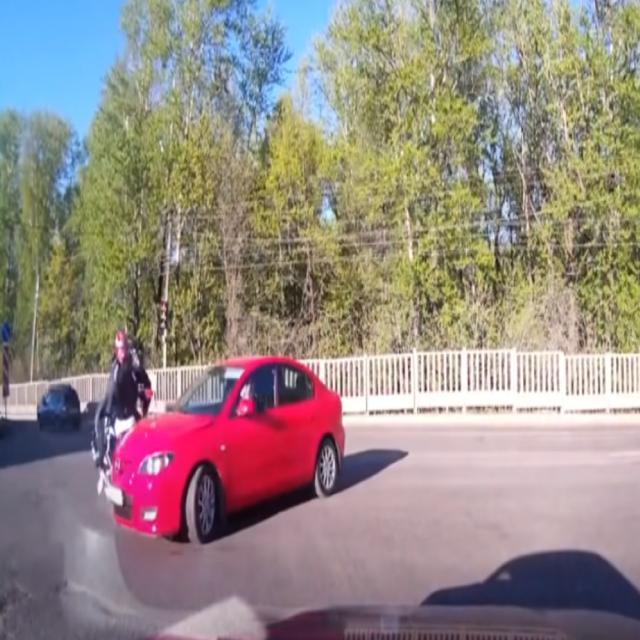accident: (88, 328, 346, 550)
